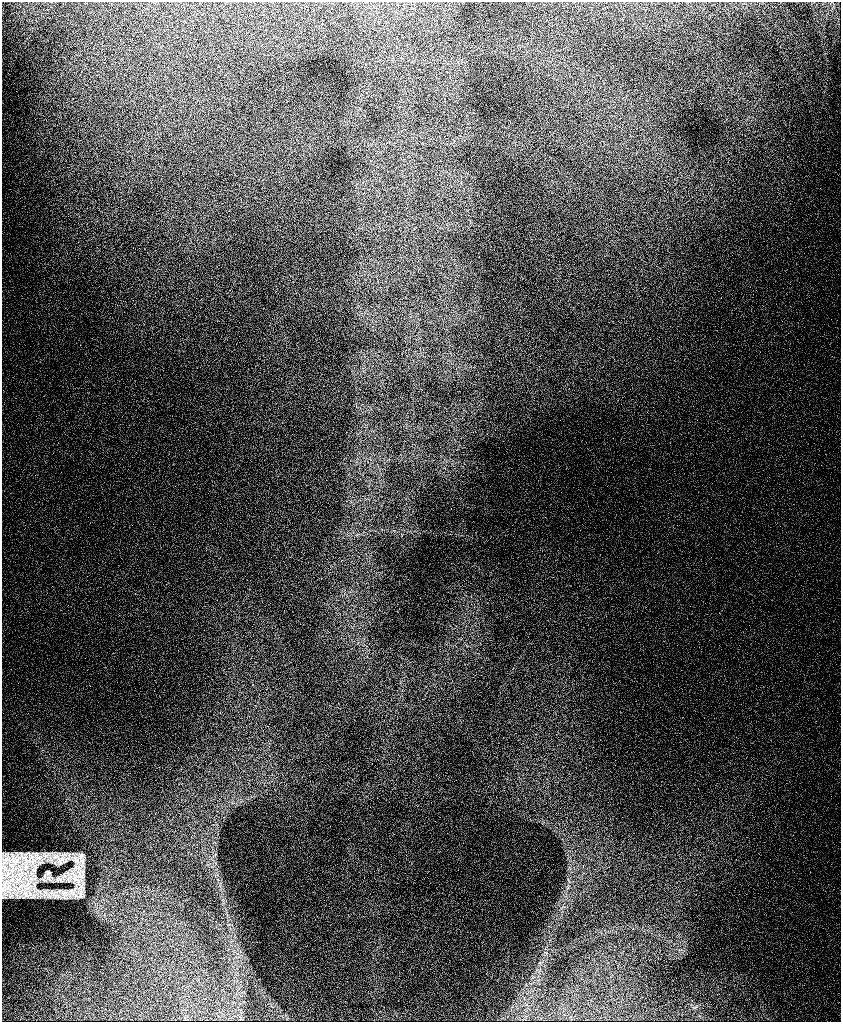lumbar scoliosis: (309, 98, 509, 648)
